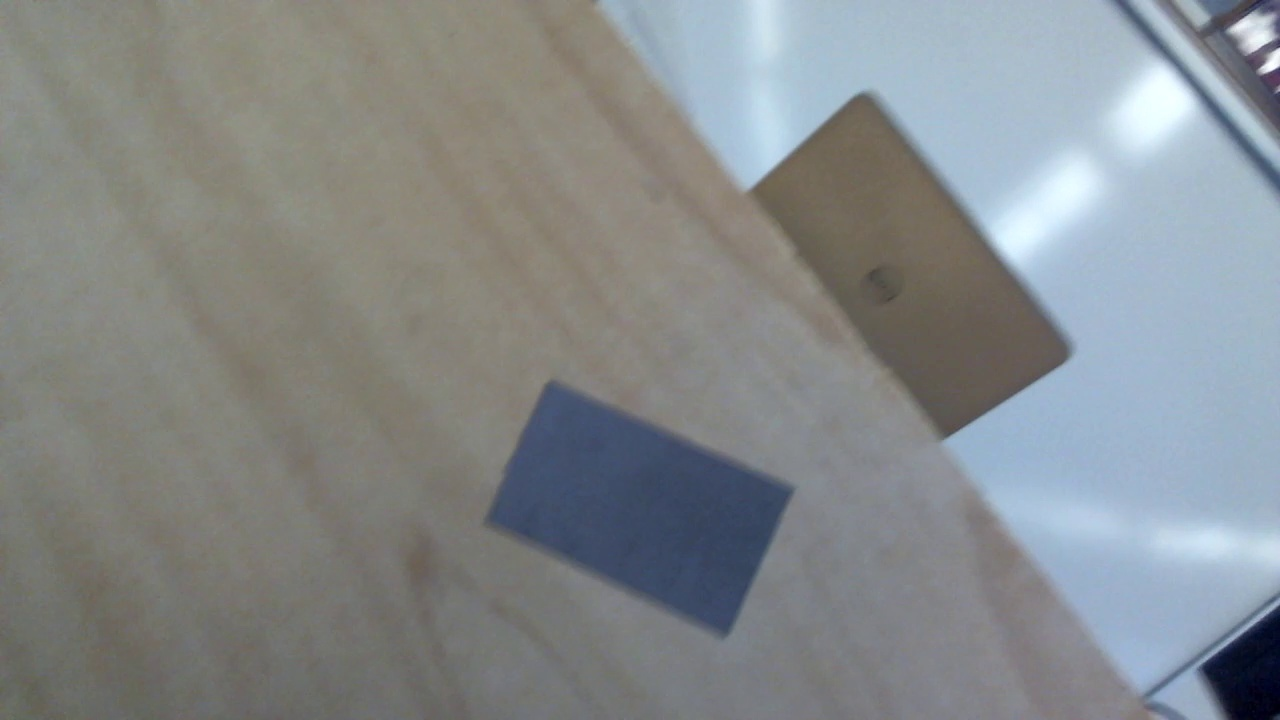Tape: (482, 381, 796, 642)
